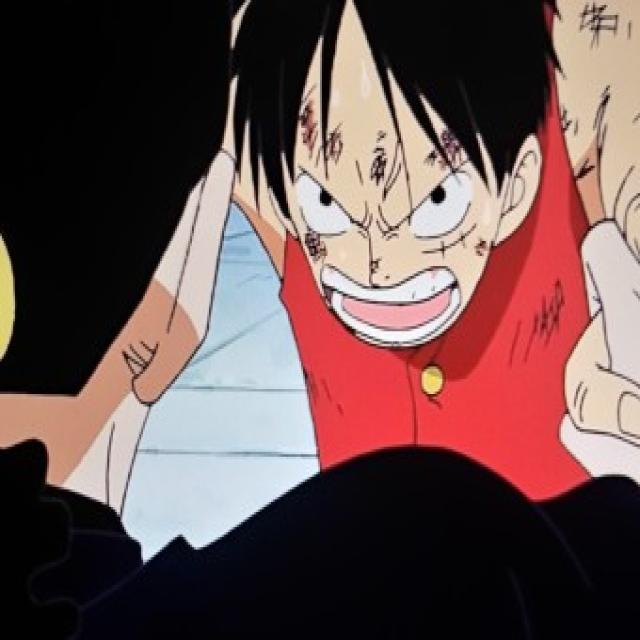Luffy: (218, 0, 557, 351)
